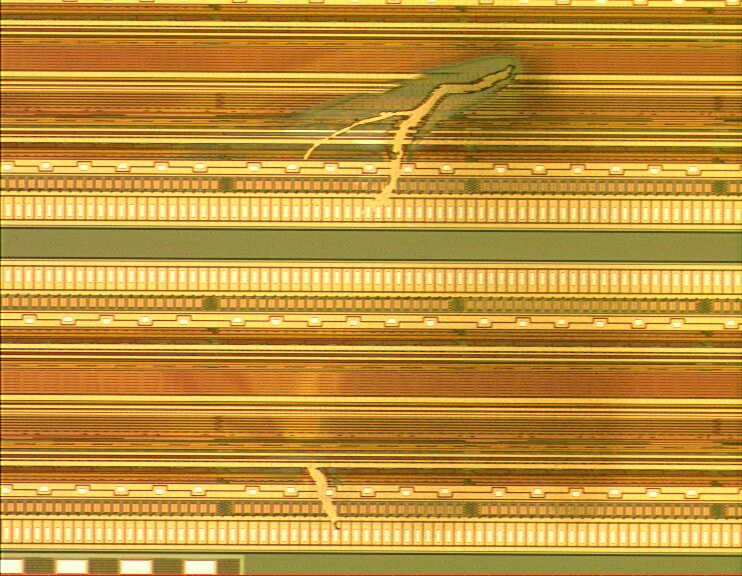BLOCK ETCH: (212, 48, 531, 549)
